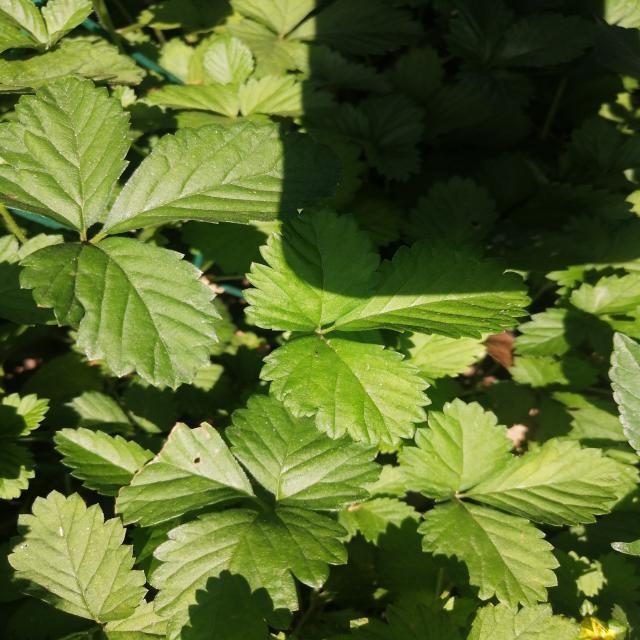Mock_strawberry: (2, 82, 318, 394), (250, 199, 564, 446), (393, 388, 612, 594)
